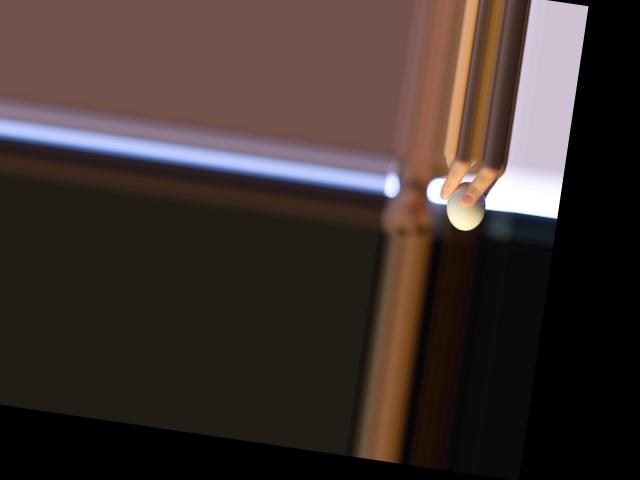egg: (442, 178, 488, 232)
